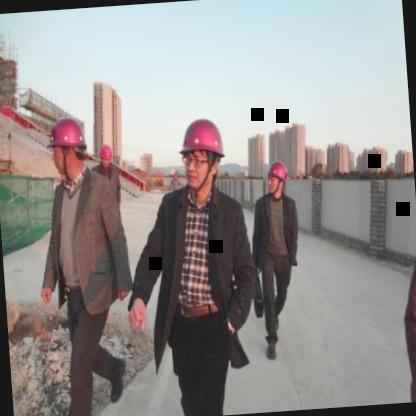helmet: (176, 114, 232, 196), (48, 116, 90, 179), (264, 158, 292, 199), (96, 140, 113, 172)
